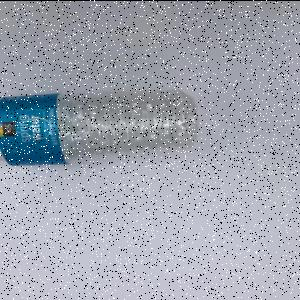Plastic-bottle: (2, 89, 202, 167)
